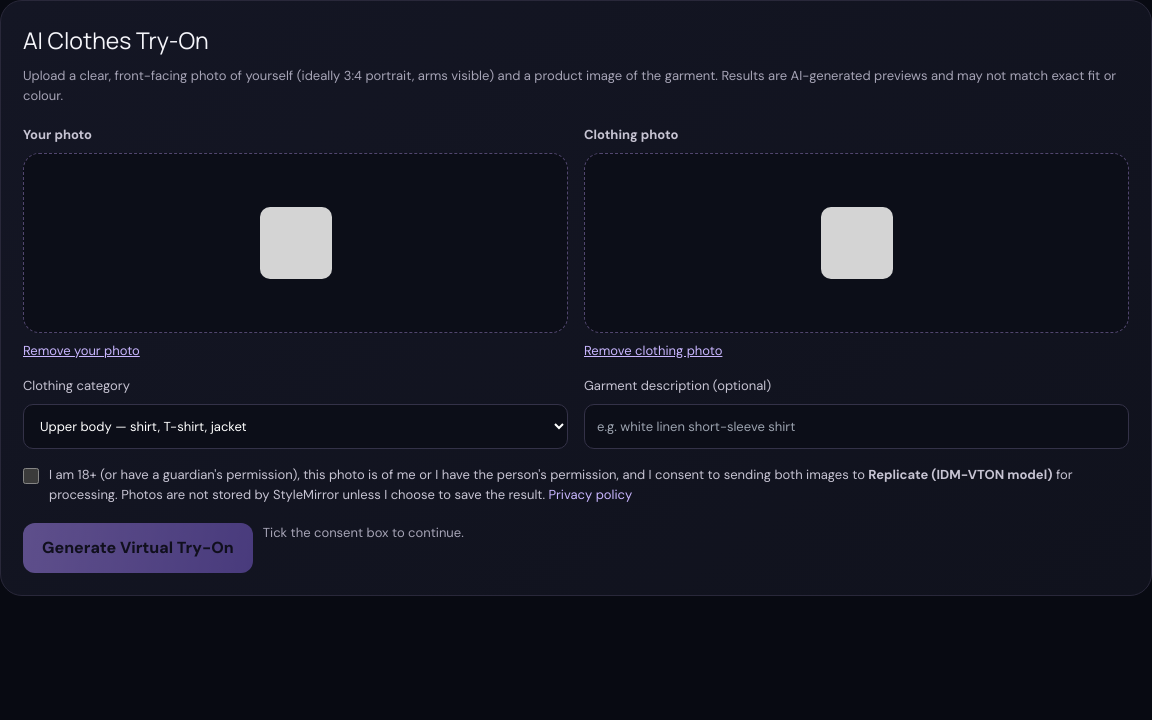
Test: ClothesTryOn › shows provider failures with a retry button instead of a fake result
This screenshot has width=1152, height=720.
Earlier steps of the test are not shown.
Click the checkbox. click: (31, 476)
box: [23, 468, 39, 484]
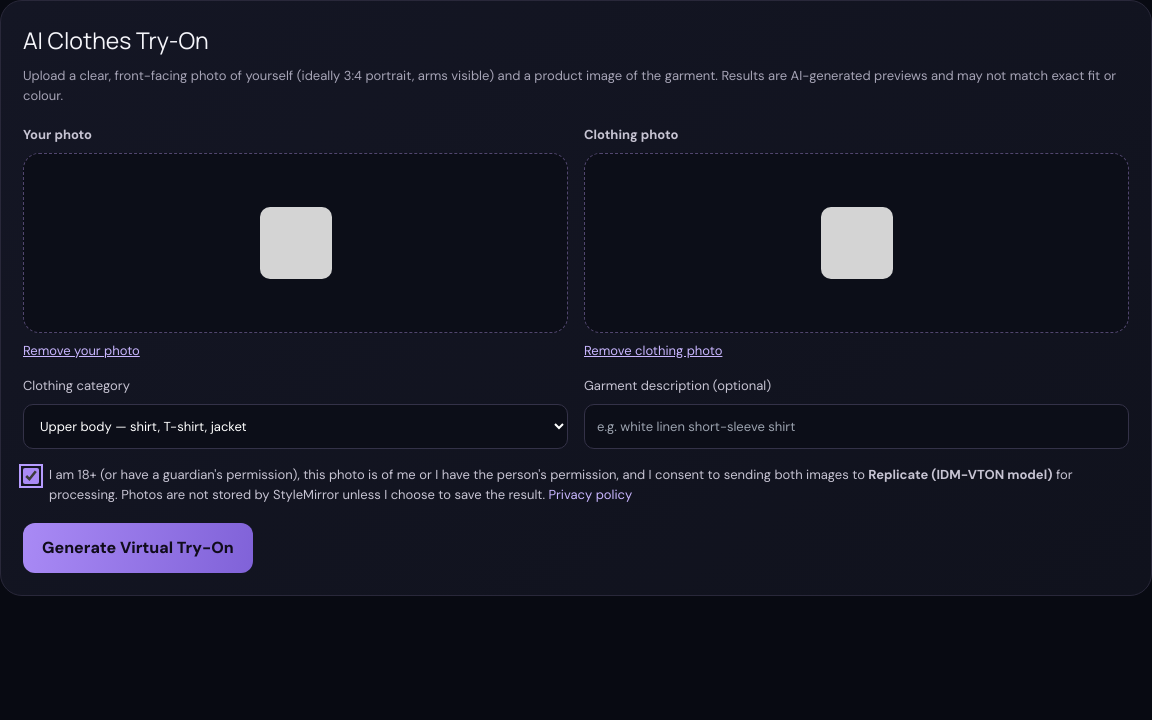
Click the button "Generate Virtual Try-On". click: (138, 548)
box: [23, 523, 253, 573]
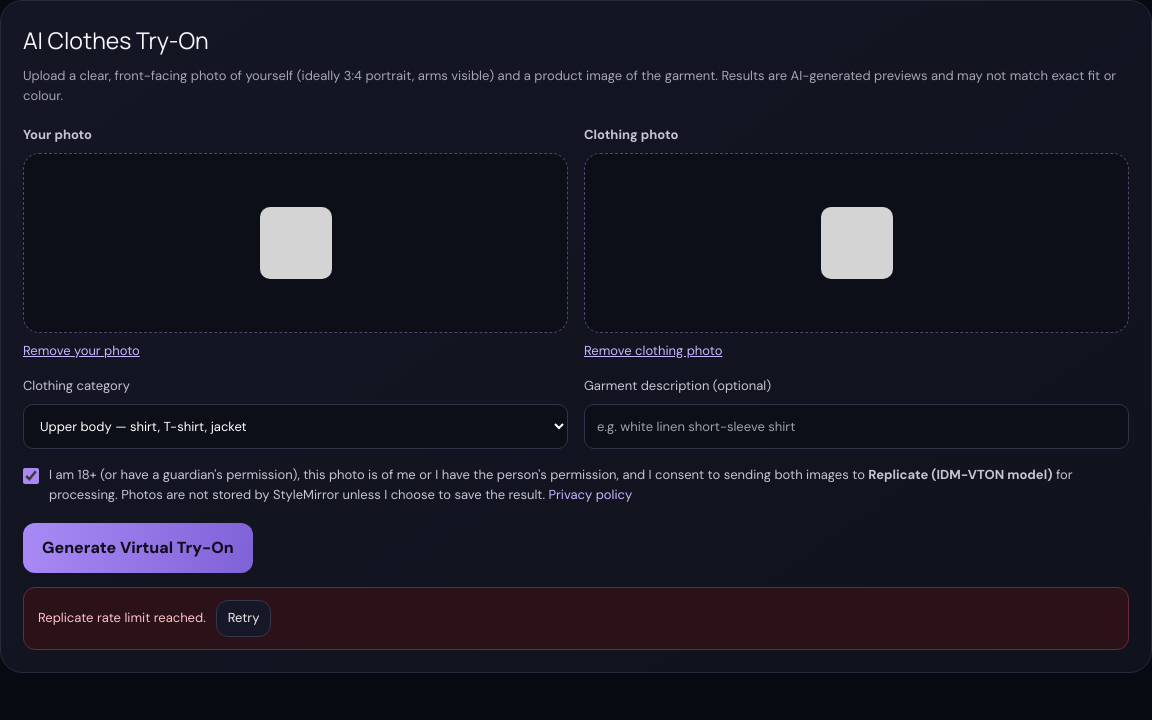
Result: the message shows "Replicate rate limit reached." at [38, 609, 206, 626]
Result: the button "Retry" is shown at [216, 600, 271, 636]
